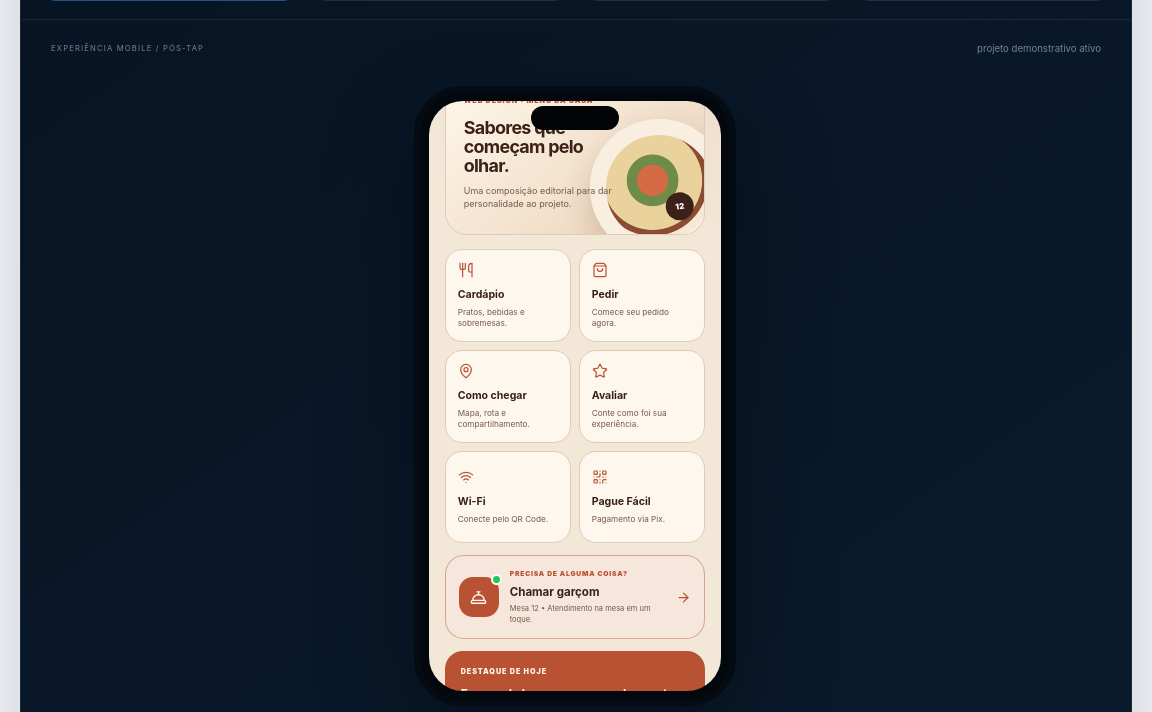
Test case: ProjectShowcase › fecha o modal com Escape e devolve o foco ao acionador
(page scrolled)
Click the button "Como chegar Mapa, rota e compartilhamento.": point(508, 397) [445,350,571,443]
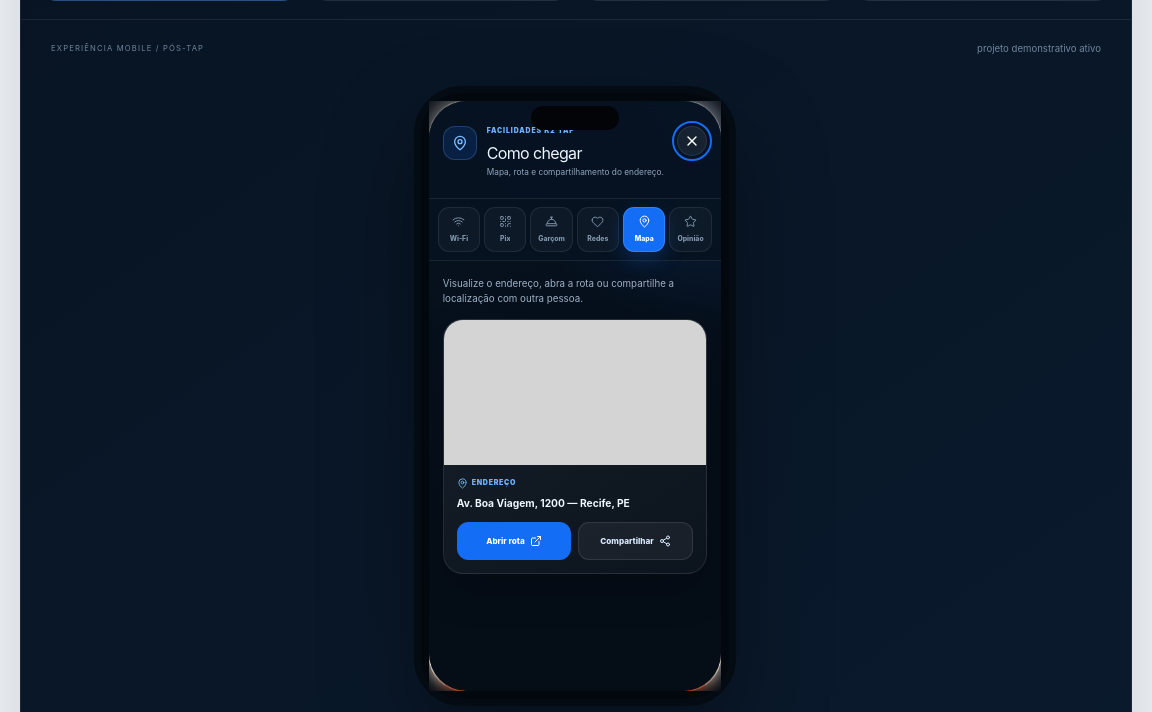
Press Escape
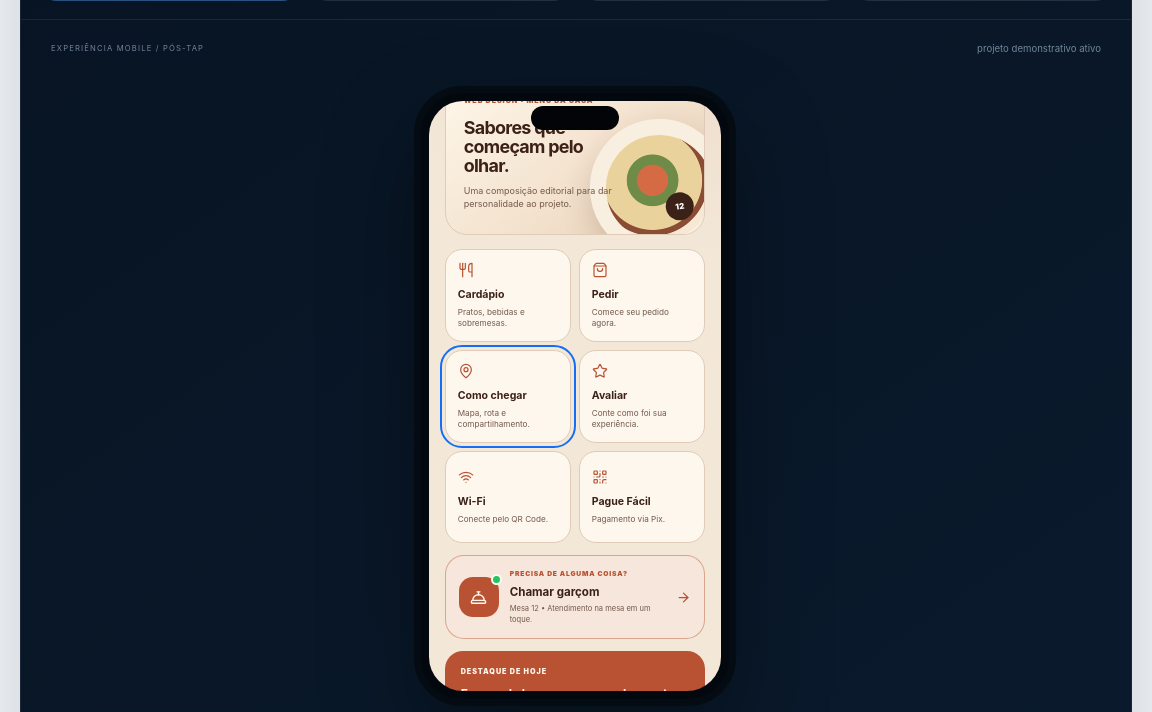
Now the dialog is gone
